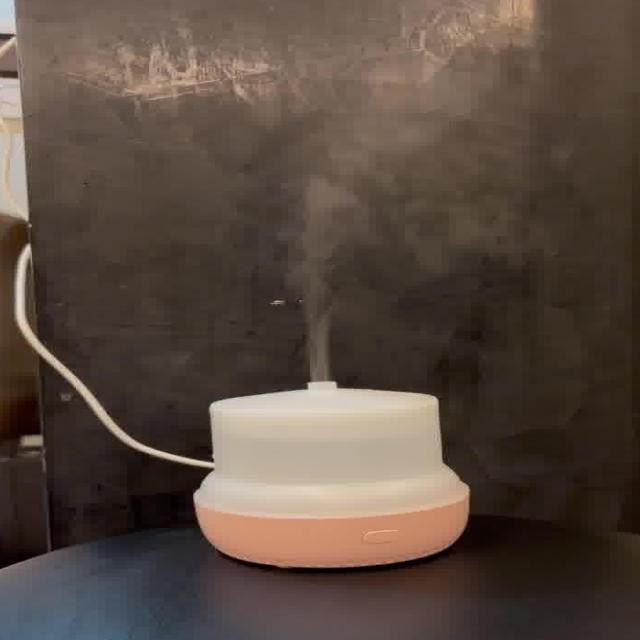fire: (276, 100, 487, 382)
